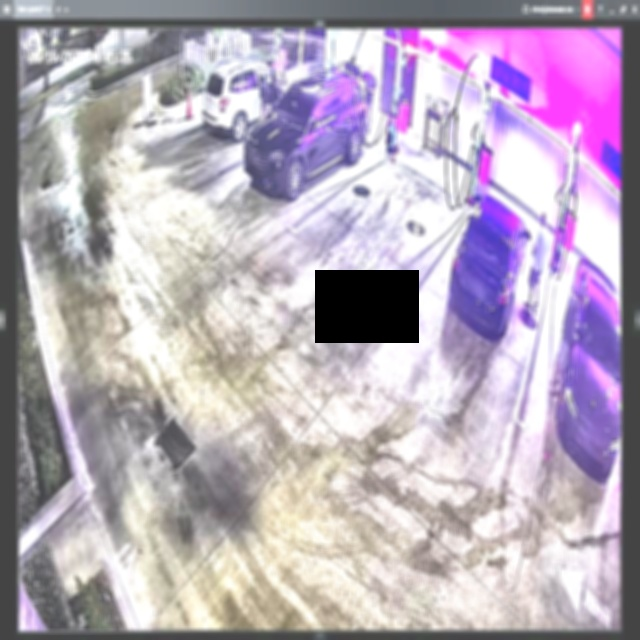Car: (243, 67, 368, 197), (449, 192, 530, 338)
